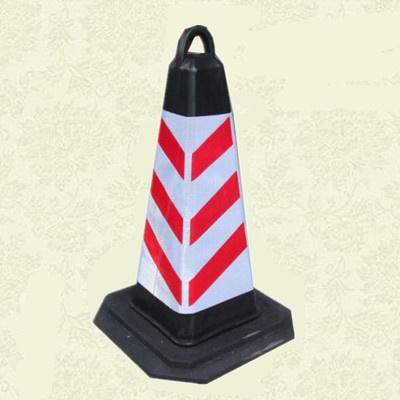cone_barrel: (99, 30, 280, 365)
